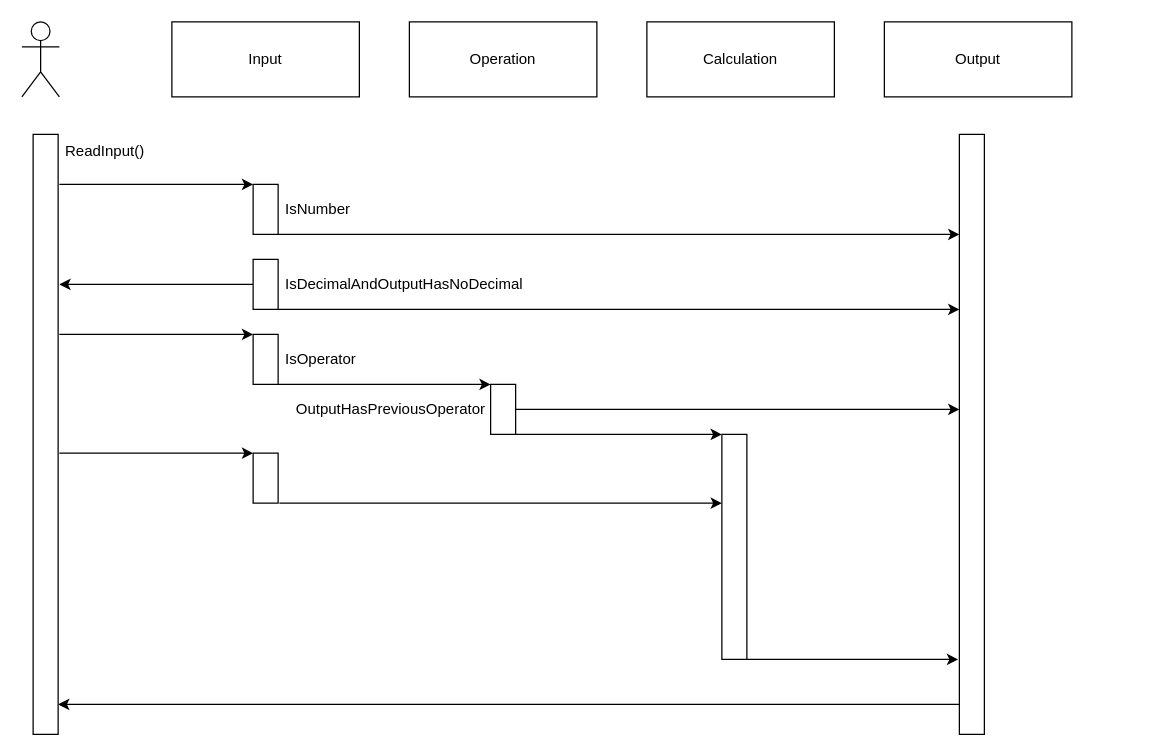
This 1158x756 diagram has some shape labels left out. The shapes that lost their labels are listed below. From the top down, each one's box as (x1, y1, x2, y2) in pixels, then its label:
(21, 21, 59, 97): User
(958, 133, 984, 734): DisplayOutput(String)
(252, 452, 278, 503): IsEqual
(721, 433, 747, 659): Calculation(Double, Double, Operation)
